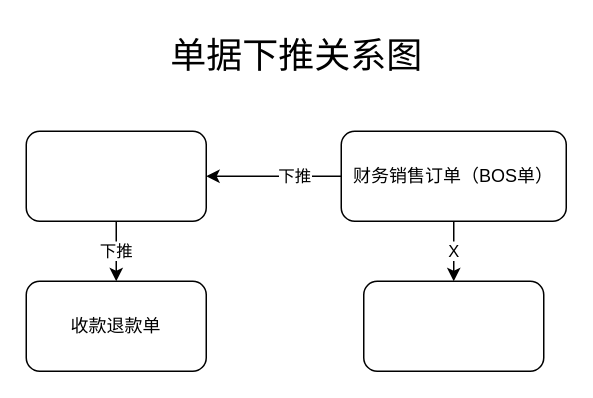
The diagram is 593 pixels wide and 398 high, and some of its shapes have lost their labels. The box of each missing label's shape, as (x1, y1, x2, y2) in pixels:
收款单: (25, 130, 206, 221)
财务销售订单【退款】（BOS单）: (362, 280, 544, 371)
